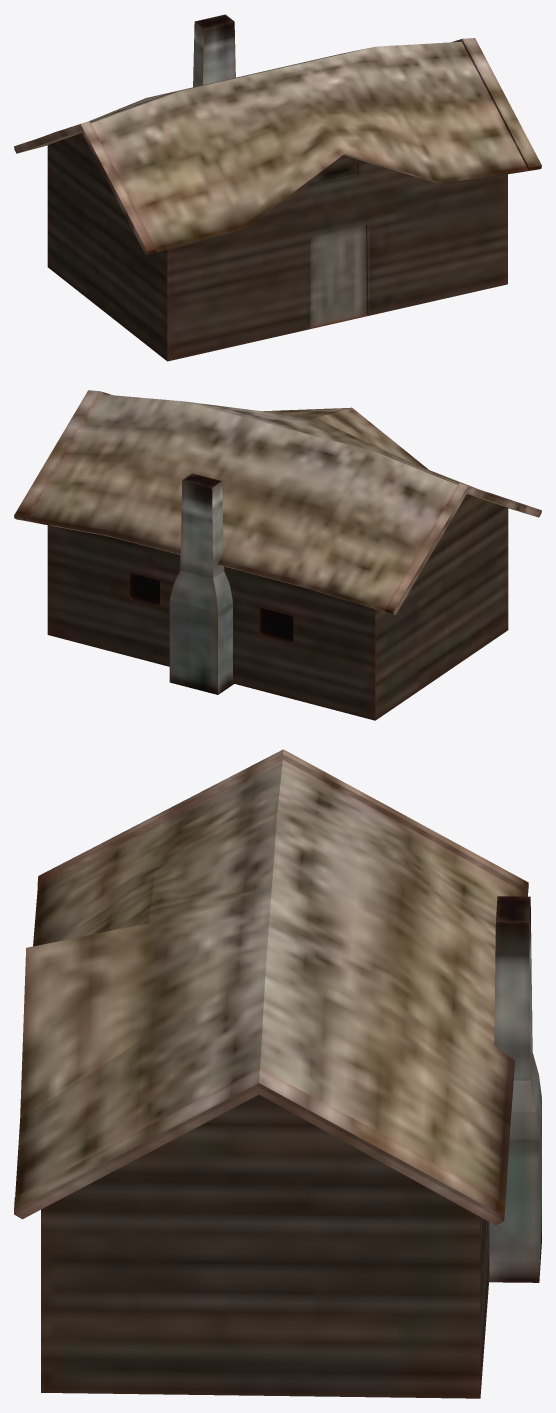
Rendered from House1.fbx.
The picture shows the model from 3 angles, top to bottom: view 1: azimuth 30°, elevation 25°; view 2: azimuth 150°, elevation 25°; view 3: azimuth 270°, elevation 25°; orthographic projection. The views are drawn at different scales.
Parts seen in each view (by area): view 1: Village.001; view 2: Village.001; view 3: Village.001.
Boxes of the visible parts, x1,y1,x2,y2 form: Village.001: (14,14,541,361); Village.001: (14,390,541,720); Village.001: (14,749,541,1398).
Bounding box in the file's own units: 586 × 295 × 391.
Materials: 1 (1 with a texture image).
